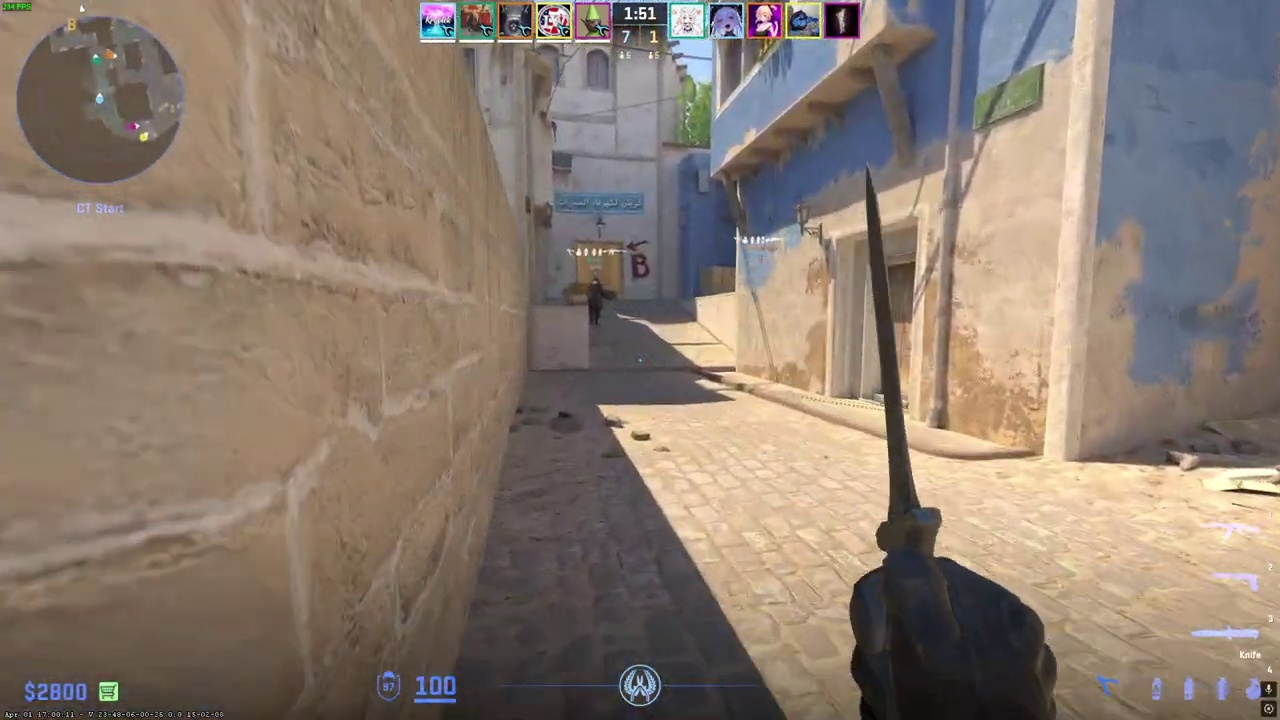CT: (587, 277, 605, 326)
